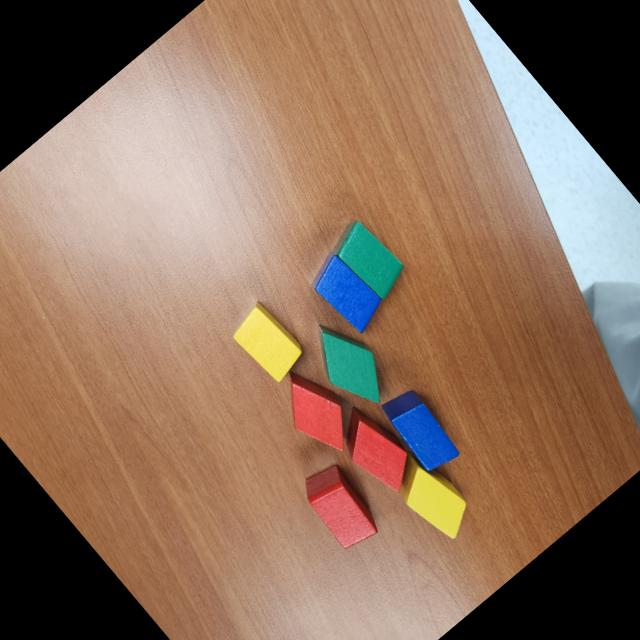blue: (374, 382, 465, 478), (302, 246, 390, 338)
green: (296, 308, 400, 418), (326, 212, 414, 305)
red: (266, 357, 370, 466), (325, 396, 424, 502), (294, 456, 388, 555)
yellow: (380, 442, 480, 549), (224, 296, 310, 386)
